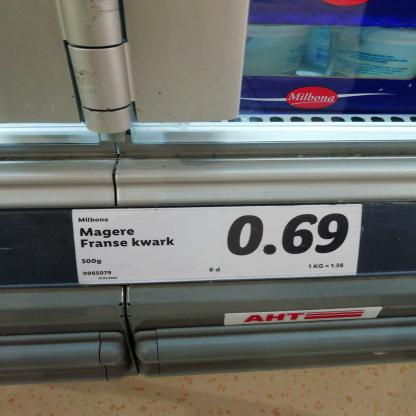prtg: (73, 205, 363, 287)
